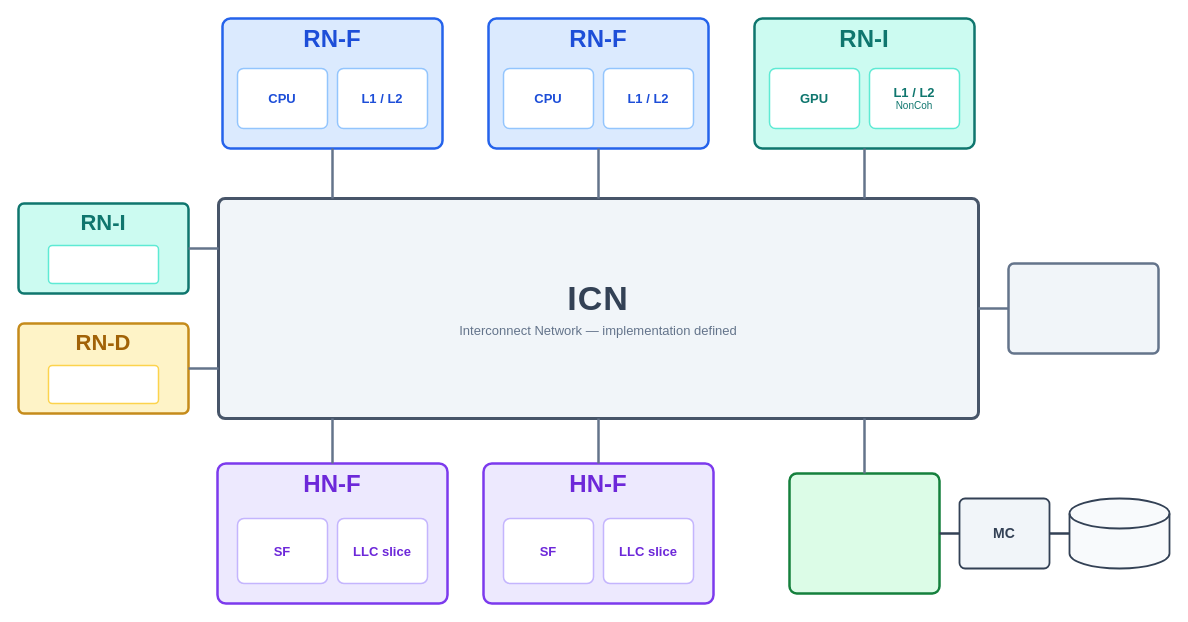
This 1188x622 diagram has some shape labels left out. The shapes that lost their labels are listed below. From the top down, each one's centre as x and y in pixels, then its label:
(103,264): PCIe
(1083,308): MN
(103,384): SMMU
(864,533): SN-F
(1119,533): DRAM
